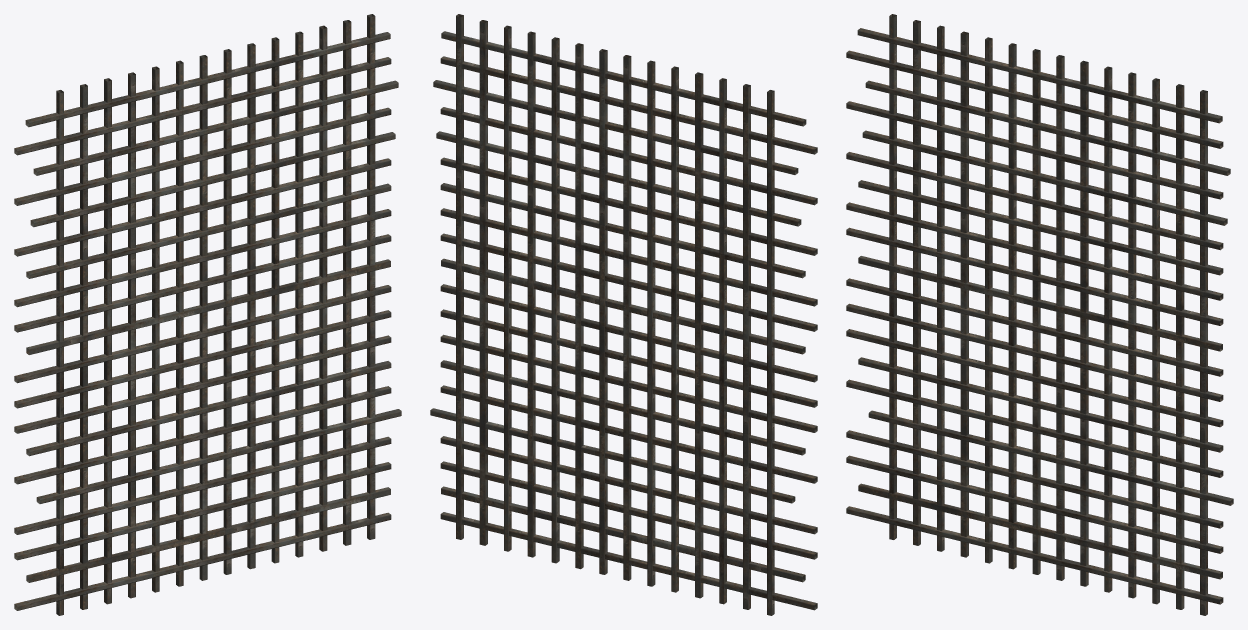
Rendered from wall_011.glb.
The picture shows the model from 3 angles, left to right: view 1: azimuth 30°, elevation 25°; view 2: azimuth 150°, elevation 25°; view 3: azimuth 330°, elevation 25°; orthographic projection.
Parts seen in each view (by area): view 1: Building_12_076; view 2: Building_12_076; view 3: Building_12_076.
Part boxes in pixels (left/top/right/bottom): Building_12_076: left=14, top=14, right=401, bottom=615; Building_12_076: left=430, top=14, right=817, bottom=615; Building_12_076: left=846, top=14, right=1233, bottom=615.
Size of the model in its own units: 1.54 by 2 by 0.0262.
1 material, 1 textured.
